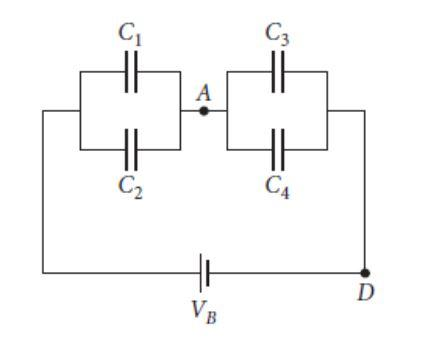Capacitor: (259, 44, 295, 97)
